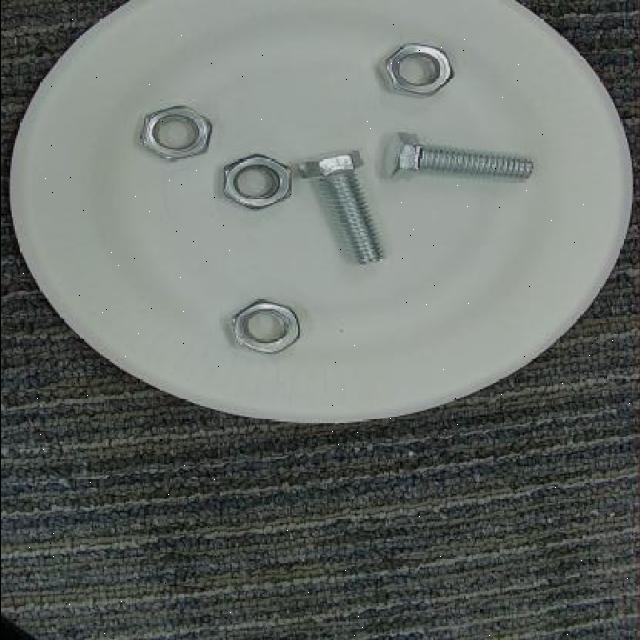Bolt: (294, 148, 386, 268), (377, 128, 543, 184)
Nut: (371, 41, 455, 101), (134, 102, 212, 164), (218, 152, 294, 212), (225, 298, 303, 354)
